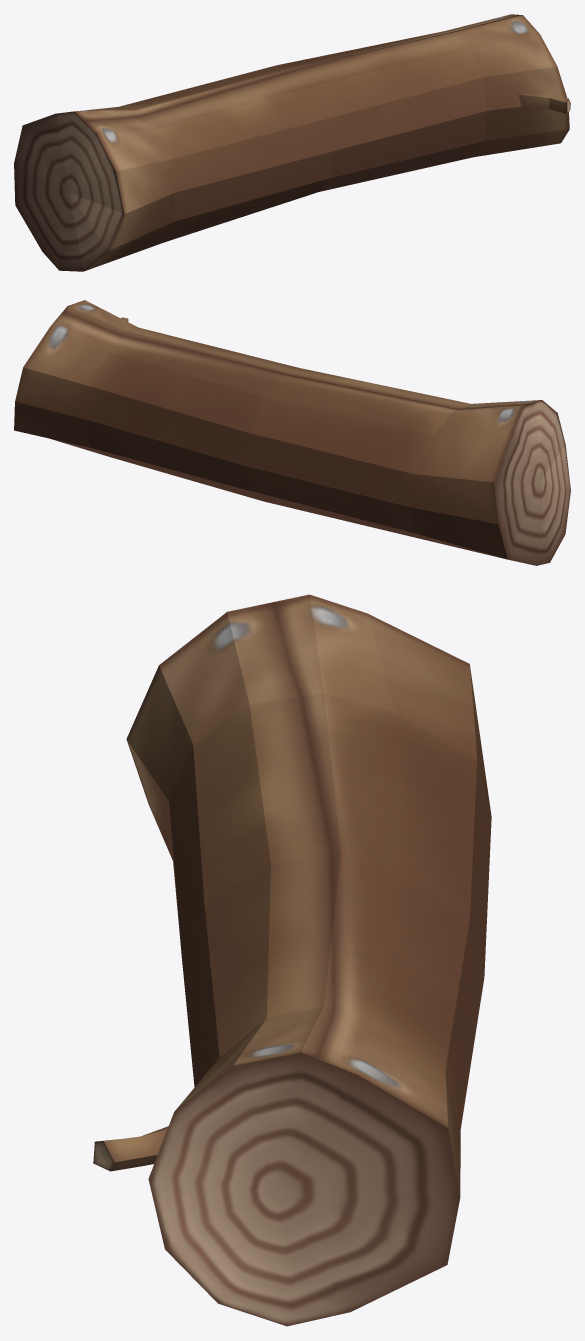
File: log.fbx
3 renders of one model, top to bottom at view 1: azimuth 30°, elevation 25°; view 2: azimuth 150°, elevation 25°; view 3: azimuth 270°, elevation 25°, orthographic. The views are drawn at different scales.
Parts seen in each view (by area): view 1: treekiller_log_center; view 2: treekiller_log_center; view 3: treekiller_log_center.
Part boxes in pixels (x1,y1,x2,y2): treekiller_log_center: (14,14,570,271); treekiller_log_center: (14,300,570,565); treekiller_log_center: (93,594,491,1326).
Bounding box in the file's own units: 271 × 79.61 × 95.65.
